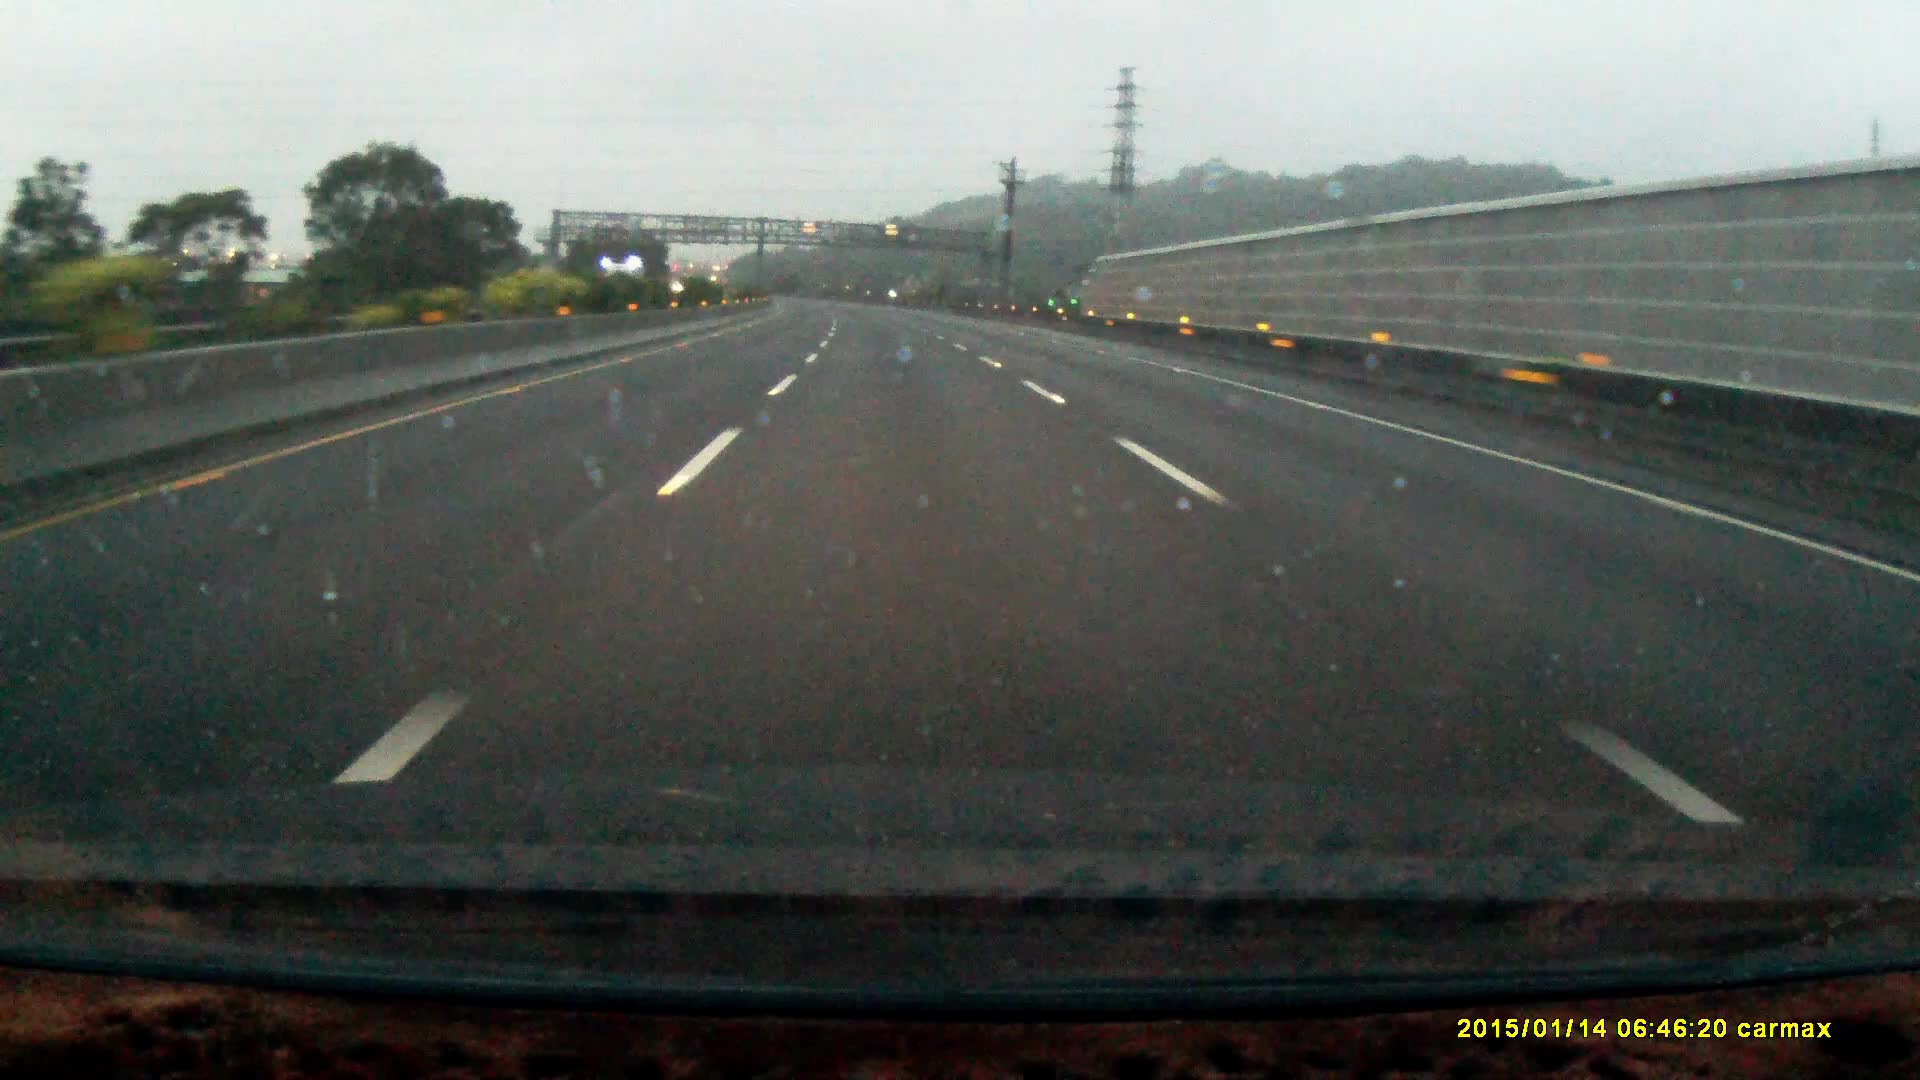vehicle: (603, 260, 646, 313)
